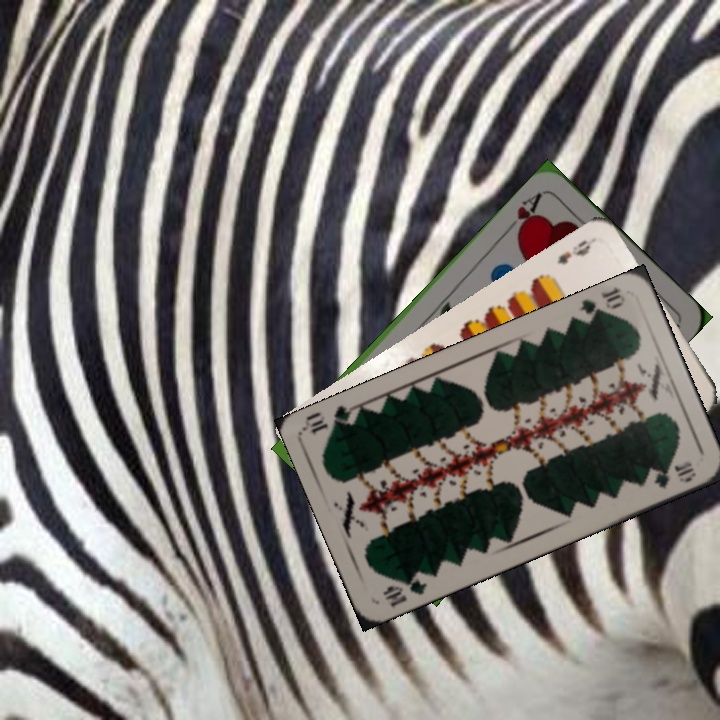E9: (553, 235, 595, 268)
G10: (573, 283, 625, 326), (379, 570, 430, 610)
HA: (501, 188, 545, 240)
